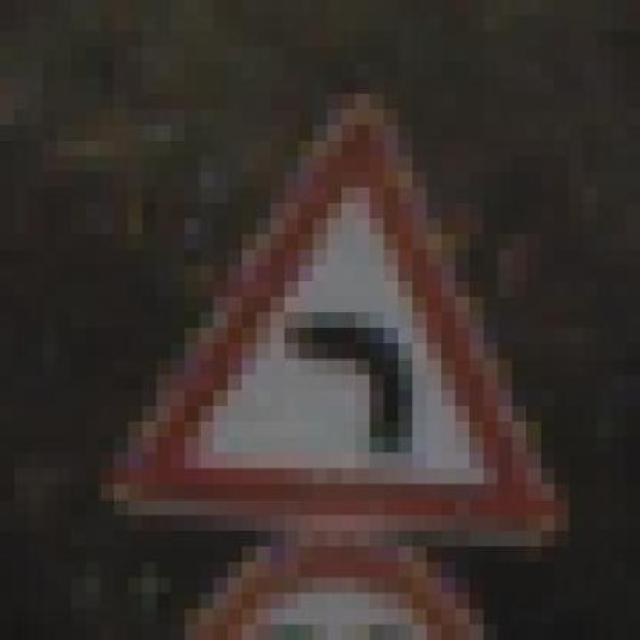Dangerous Left Curve Ahead: (71, 78, 583, 562)
